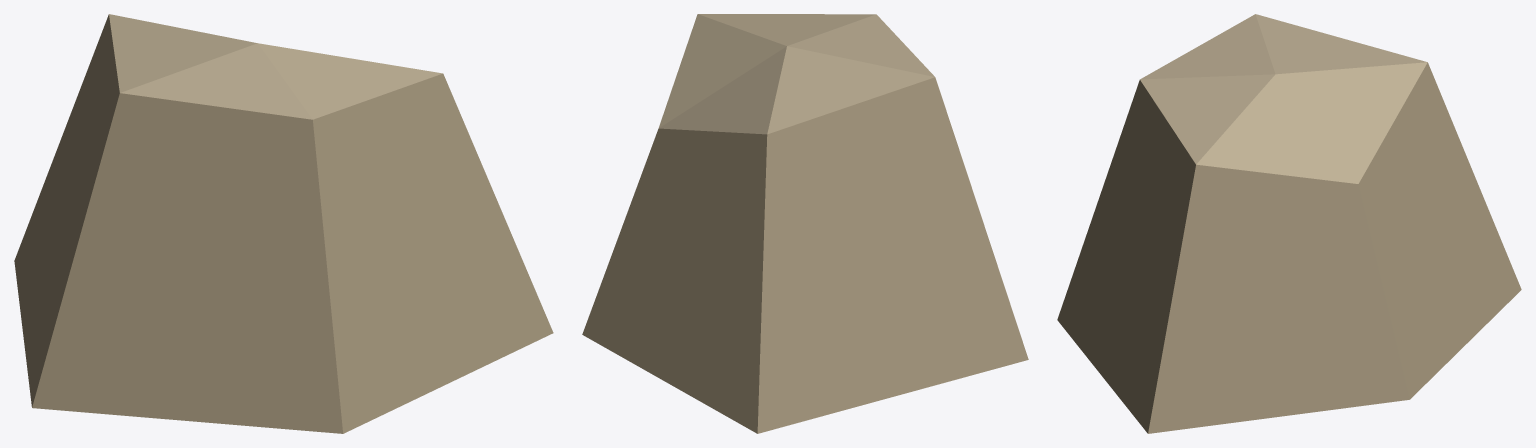
The model's file is rock.fbx.
3 views of the same model, side by side, from view 1: azimuth 30°, elevation 25°; view 2: azimuth 150°, elevation 25°; view 3: azimuth 270°, elevation 25° (orthographic). The views are drawn at different scales.
Visible parts, largest first — view 1: rock; view 2: rock; view 3: rock.
Part boxes in pixels (<box>): rock: <box>14,14,553,433</box>; rock: <box>582,14,1028,433</box>; rock: <box>1057,14,1521,433</box>.
Bounding box in the file's own units: 0.1662 × 0.0992 × 0.1597.
